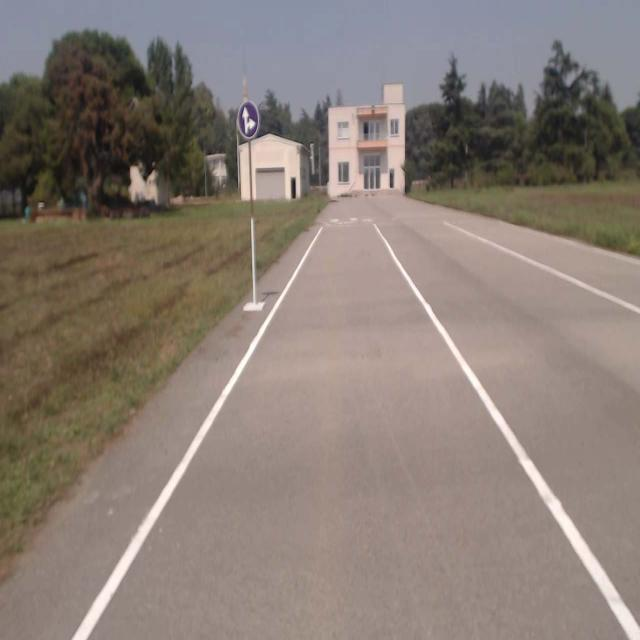ilerisag: (238, 103, 260, 139)
